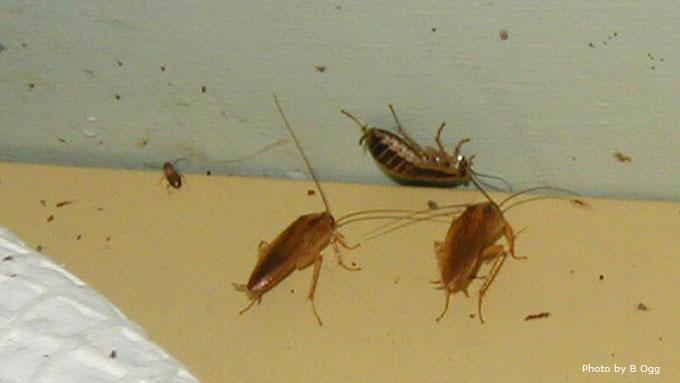cockroach: (237, 208, 342, 304), (436, 198, 516, 318), (358, 120, 474, 191), (161, 157, 183, 197)
